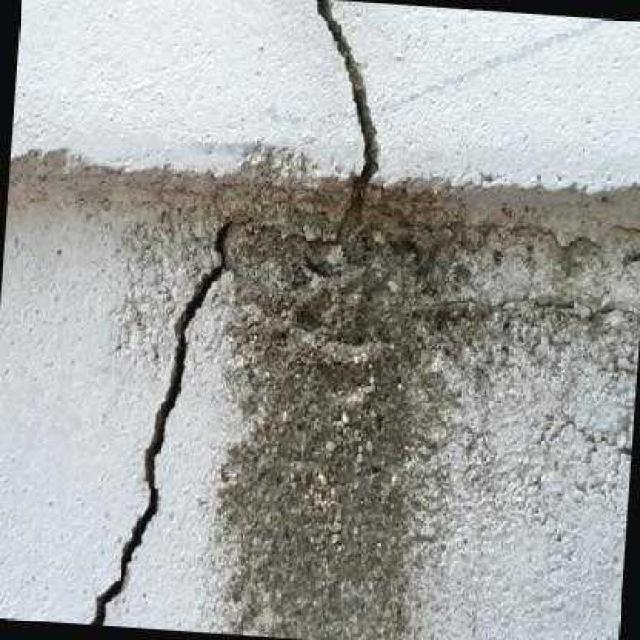D00: (91, 0, 379, 626)
